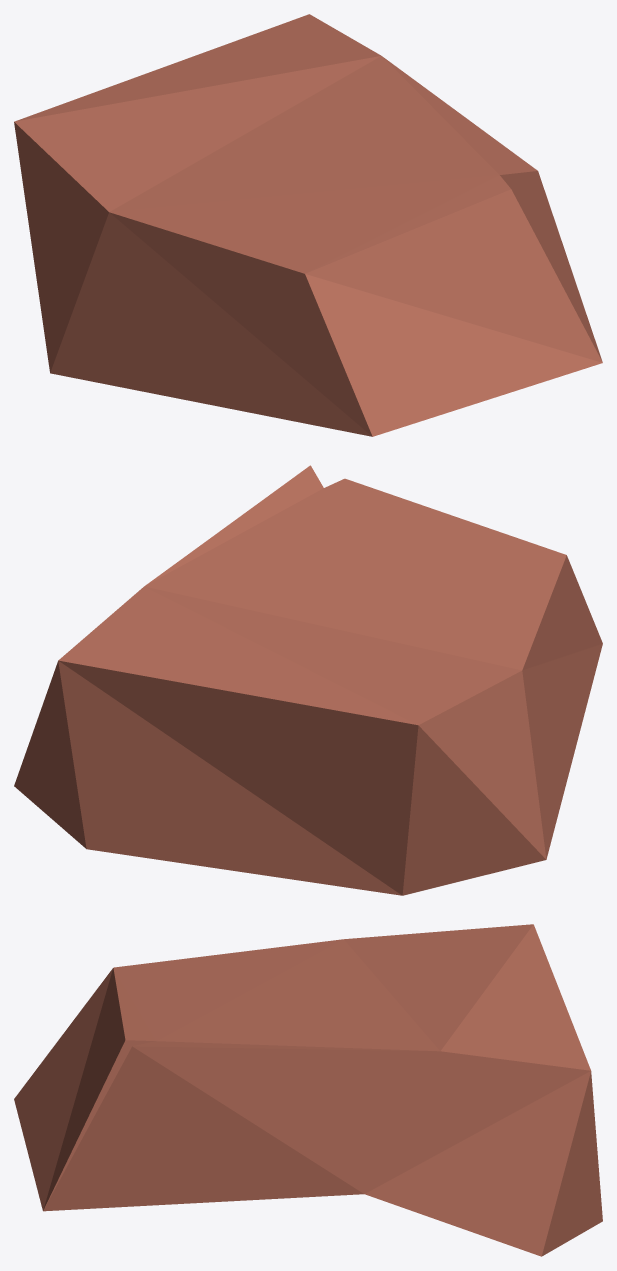
Rendered from rock_021.fbx.
3 renders of one model, top to bottom at view 1: azimuth 30°, elevation 25°; view 2: azimuth 150°, elevation 25°; view 3: azimuth 270°, elevation 25°, orthographic. The views are drawn at different scales.
Parts seen in each view (by area): view 1: rock_021; view 2: rock_021; view 3: rock_021.
Part boxes in pixels (x1,y1,x2,y2): rock_021: [14, 14, 602, 436]; rock_021: [14, 465, 602, 895]; rock_021: [14, 924, 602, 1256].
Size of the model in its own units: 155 by 188 by 70.23.
